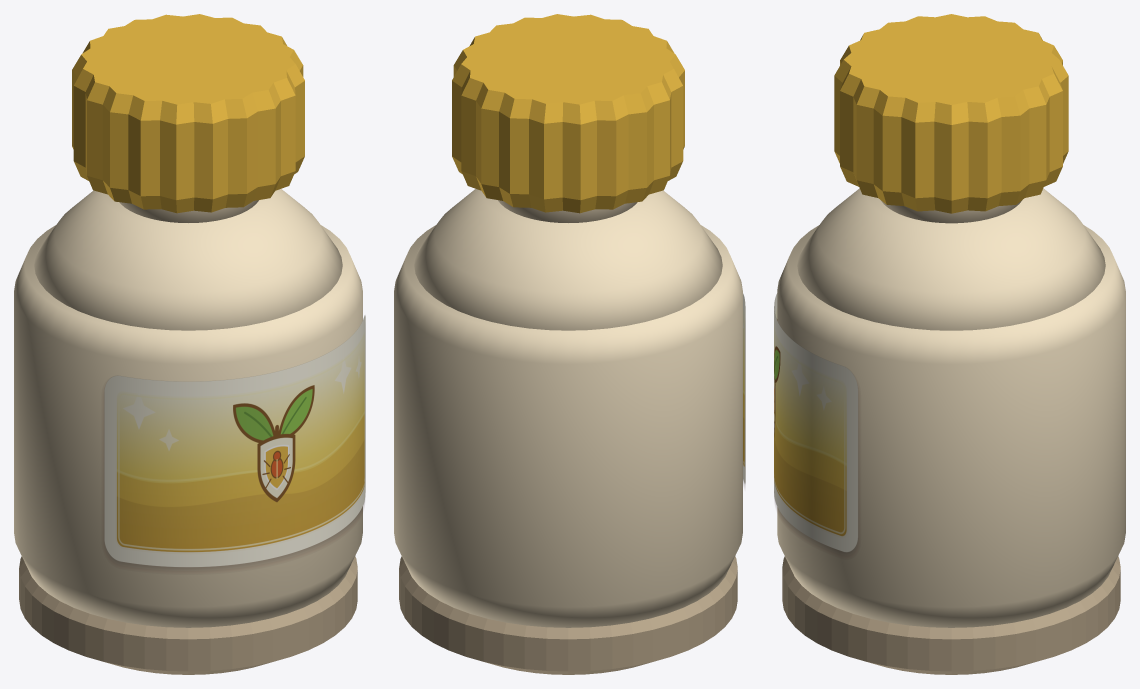
The model's file is LiquidPreparationBottlePestControl.glb.
The picture shows the model from 3 angles, left to right: view 1: azimuth 30°, elevation 25°; view 2: azimuth 150°, elevation 25°; view 3: azimuth 270°, elevation 25°; orthographic projection.
Parts seen in each view (by area): view 1: LiquidPreparationBottlePestControl_Body, LiquidPreparationBottlePestControl_Label, LiquidPreparationBottlePestControl_Cap, LiquidPreparationBottlePestControl_Shoulder, LiquidPreparationBottlePestControl_Base_Rim, LiquidPreparationBottlePestControl_Neck; view 2: LiquidPreparationBottlePestControl_Body, LiquidPreparationBottlePestControl_Cap, LiquidPreparationBottlePestControl_Shoulder, LiquidPreparationBottlePestControl_Base_Rim, LiquidPreparationBottlePestControl_Neck, LiquidPreparationBottlePestControl_Label; view 3: LiquidPreparationBottlePestControl_Body, LiquidPreparationBottlePestControl_Cap, LiquidPreparationBottlePestControl_Shoulder, LiquidPreparationBottlePestControl_Label, LiquidPreparationBottlePestControl_Base_Rim, LiquidPreparationBottlePestControl_Neck.
Part boxes in pixels (<box>): LiquidPreparationBottlePestControl_Body: <box>14,225,362,627</box>; LiquidPreparationBottlePestControl_Label: <box>104,315,365,570</box>; LiquidPreparationBottlePestControl_Cap: <box>72,14,304,213</box>; LiquidPreparationBottlePestControl_Shoulder: <box>34,189,342,330</box>; LiquidPreparationBottlePestControl_Base_Rim: <box>19,556,357,674</box>; LiquidPreparationBottlePestControl_Neck: <box>119,200,258,222</box>; LiquidPreparationBottlePestControl_Body: <box>394,225,742,627</box>; LiquidPreparationBottlePestControl_Cap: <box>452,14,684,213</box>; LiquidPreparationBottlePestControl_Shoulder: <box>414,189,722,330</box>; LiquidPreparationBottlePestControl_Base_Rim: <box>399,556,737,674</box>; LiquidPreparationBottlePestControl_Neck: <box>498,200,637,222</box>; LiquidPreparationBottlePestControl_Label: <box>743,293,745,485</box>; LiquidPreparationBottlePestControl_Body: <box>777,225,1125,627</box>; LiquidPreparationBottlePestControl_Cap: <box>834,14,1068,213</box>; LiquidPreparationBottlePestControl_Shoulder: <box>797,188,1105,330</box>; LiquidPreparationBottlePestControl_Label: <box>774,293,858,554</box>; LiquidPreparationBottlePestControl_Base_Rim: <box>782,556,1120,674</box>; LiquidPreparationBottlePestControl_Neck: <box>881,200,1021,223</box>.
Size of the model in its own units: 0.69 by 1.23 by 0.696.
Materials: 5 (1 with a texture image).
